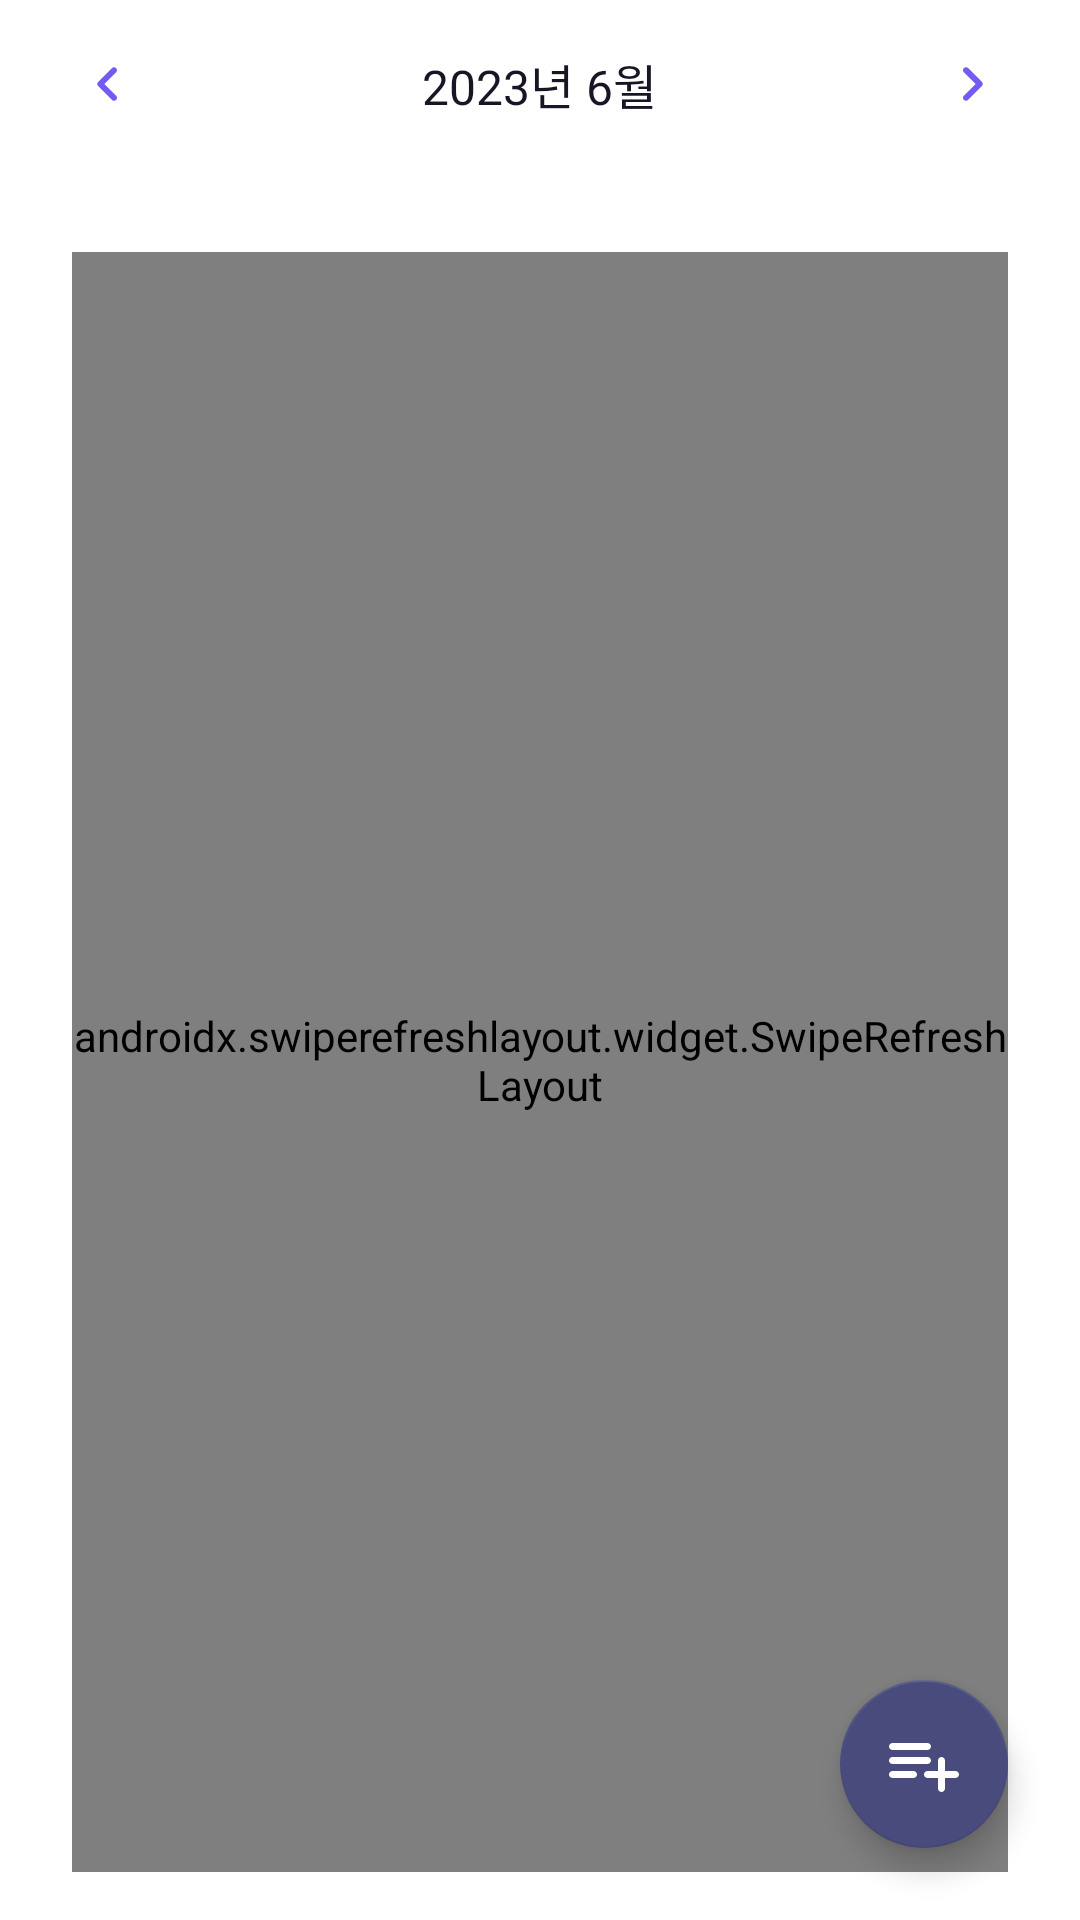

Where icons sit on this 1080*1920 app screen, as rect(x1, y1, x2, y2):
next: rect(963, 67, 983, 101)
prev: rect(97, 67, 117, 101)
todo add: rect(840, 1681, 1008, 1848)
